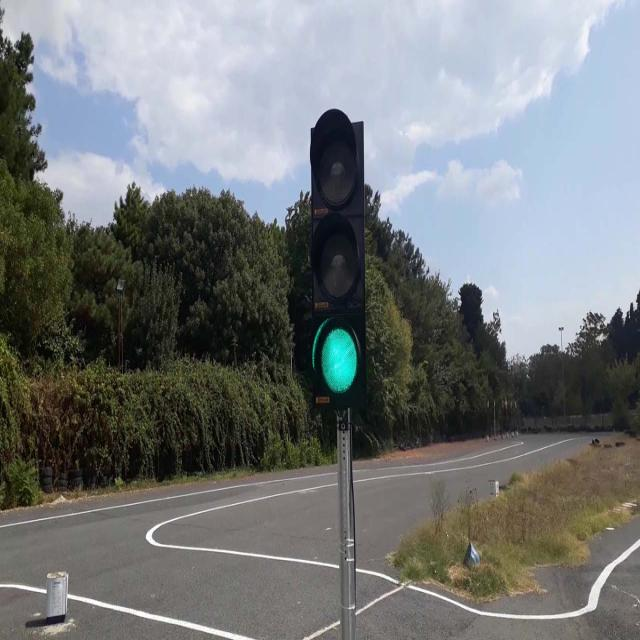yesil: (311, 112, 365, 408)
